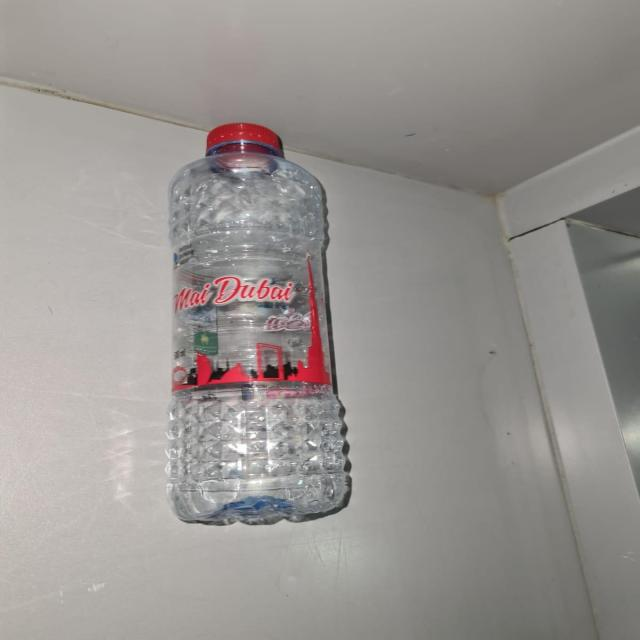bottle: (143, 105, 376, 546)
